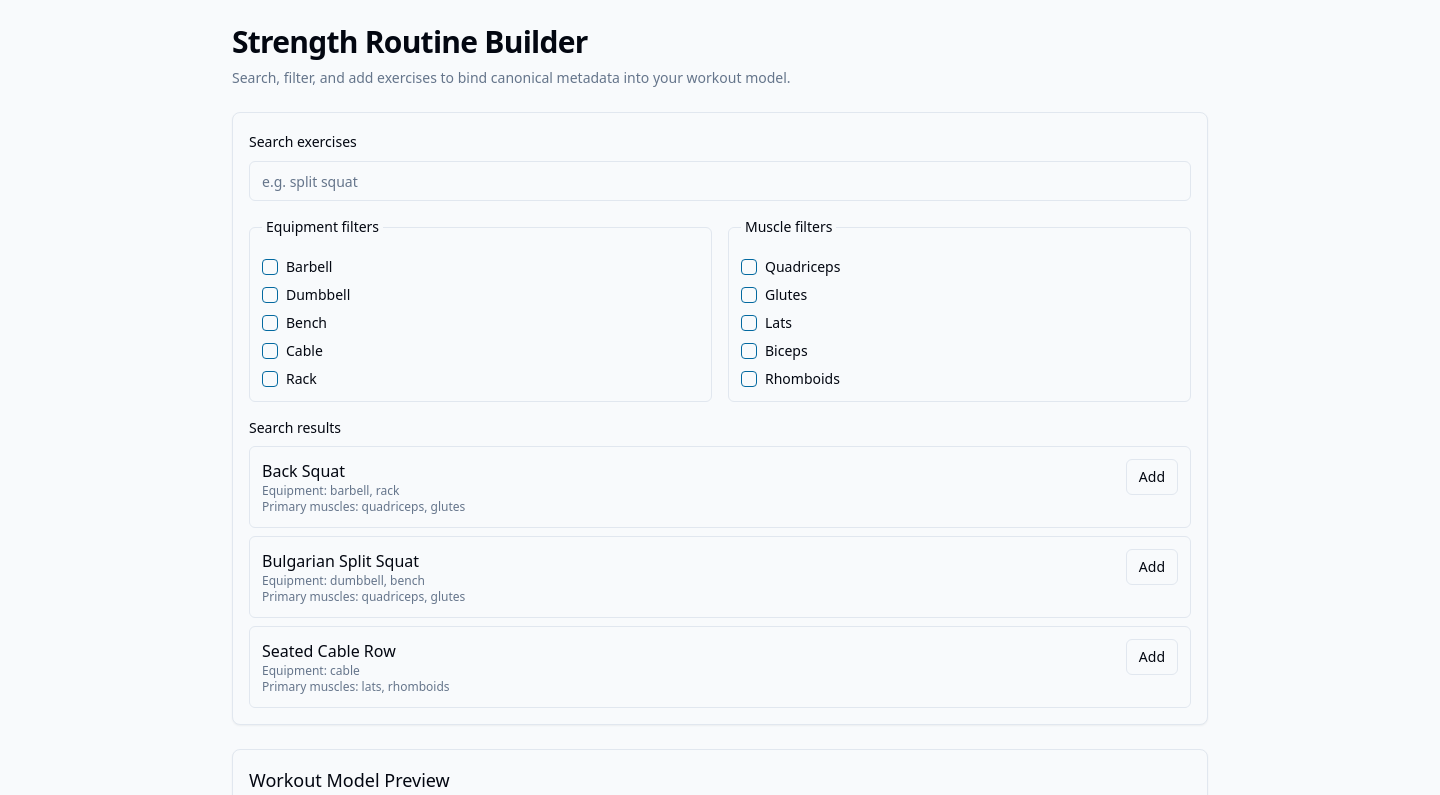
Test: StrengthRoutineBuilder muscle maps › renders exercise, routine, and microcycle muscle maps that update as composition changes
Type "back squat" into the field labelled "Search exercises" at (720, 181), box [249, 161, 1191, 201]
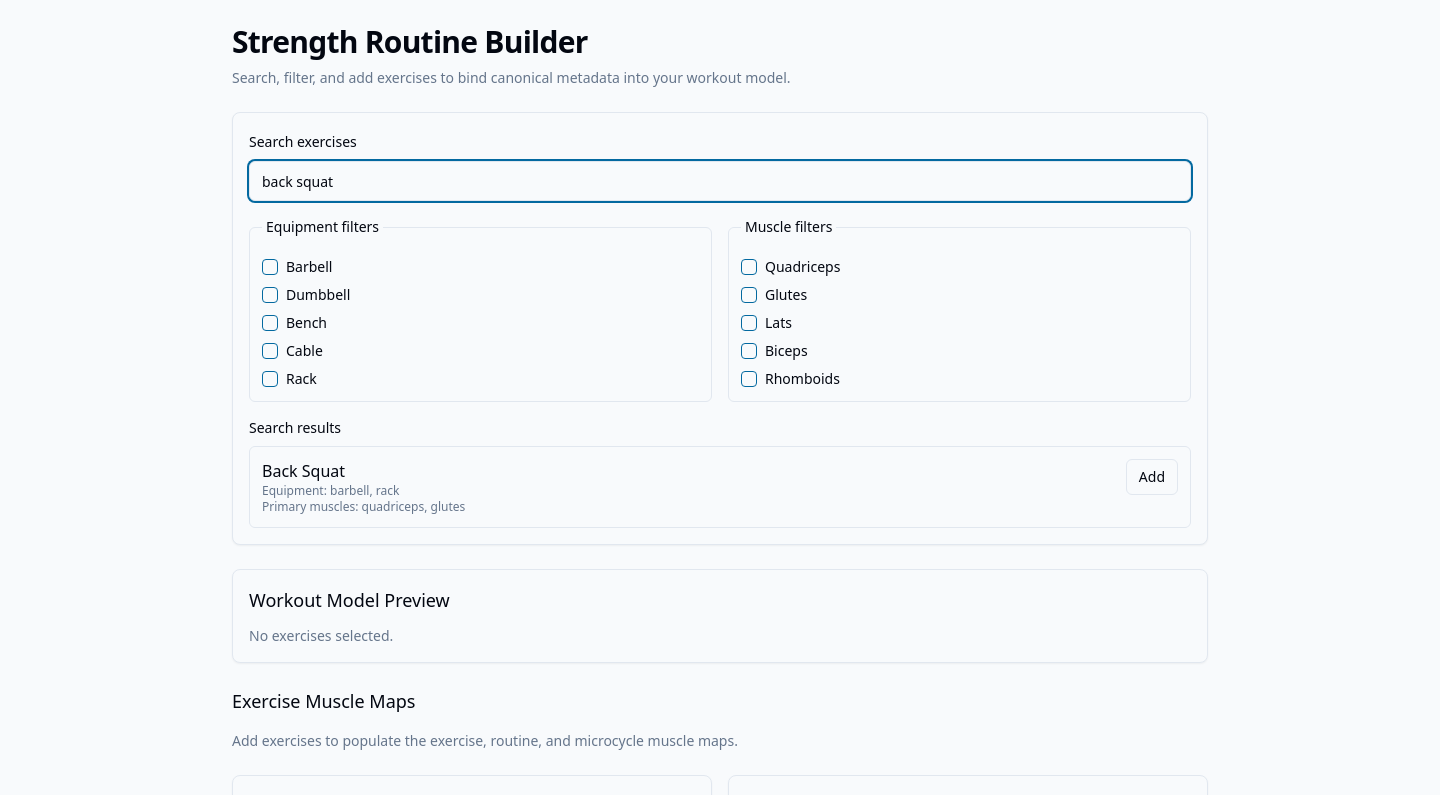
Click the option "Back Squat" at (304, 471), box [249, 446, 1191, 528]
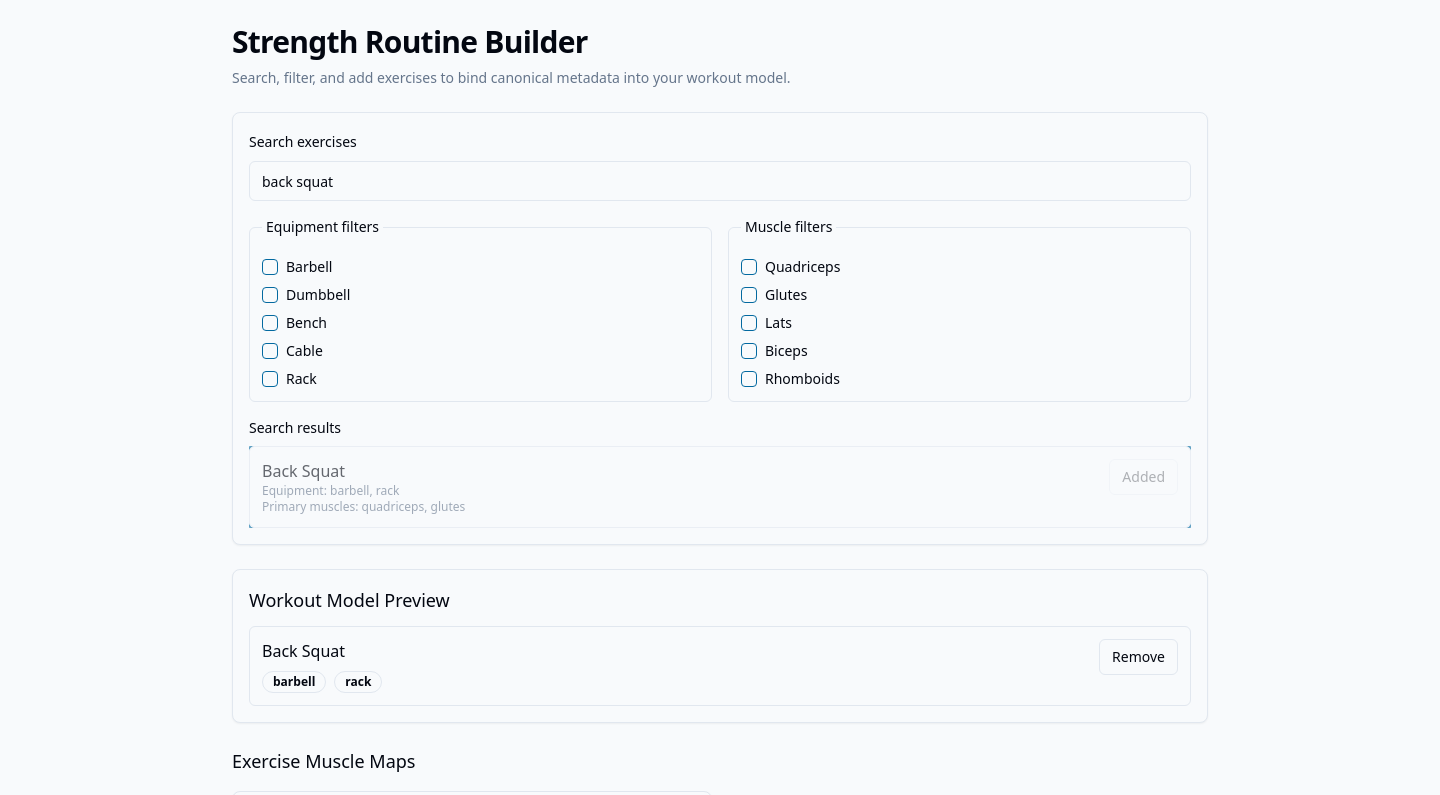
Replace the text in the field labelled "Search exercises" with "seated cable row" at (720, 181), box [249, 161, 1191, 201]
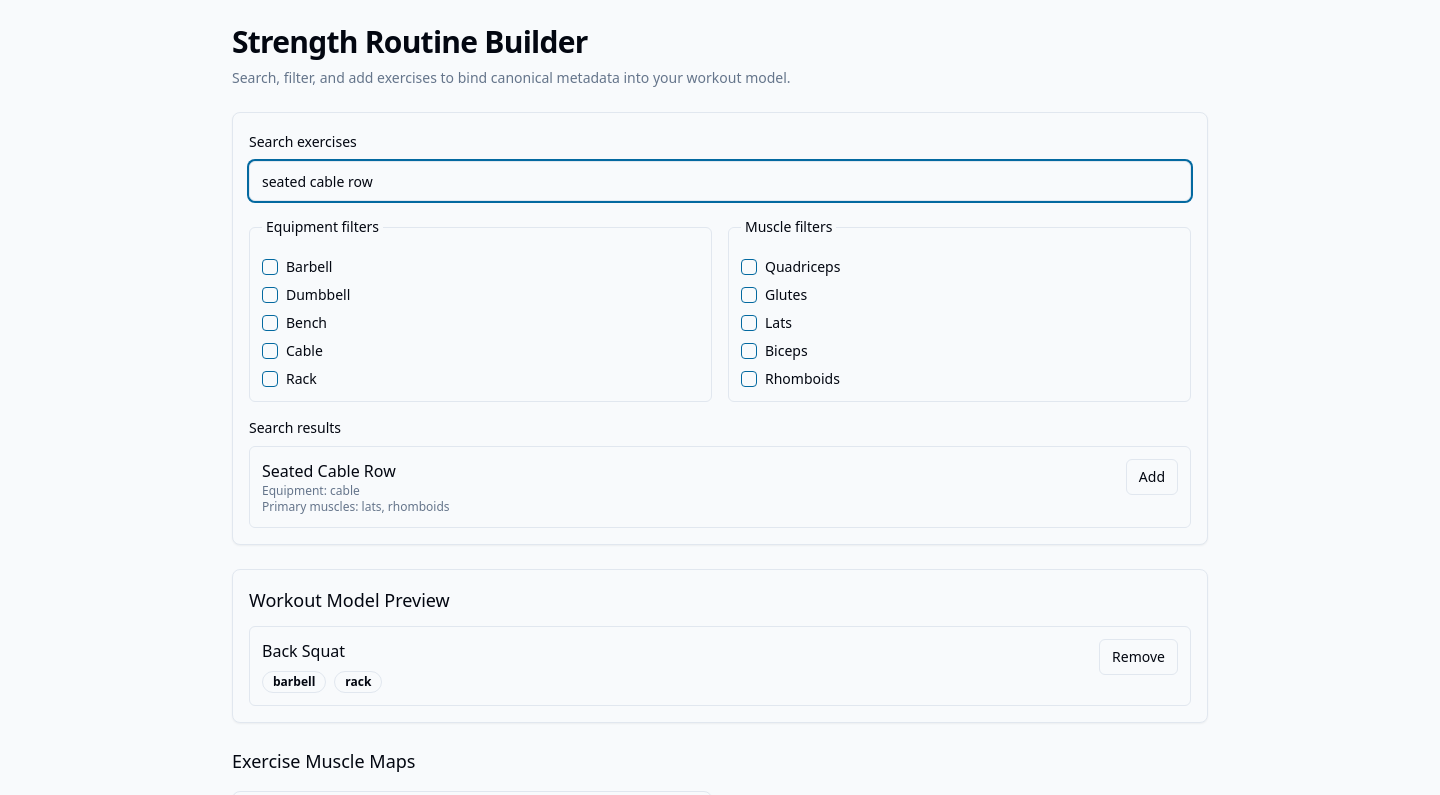
Click the option "Seated Cable Row" at (329, 471), box [249, 446, 1191, 528]
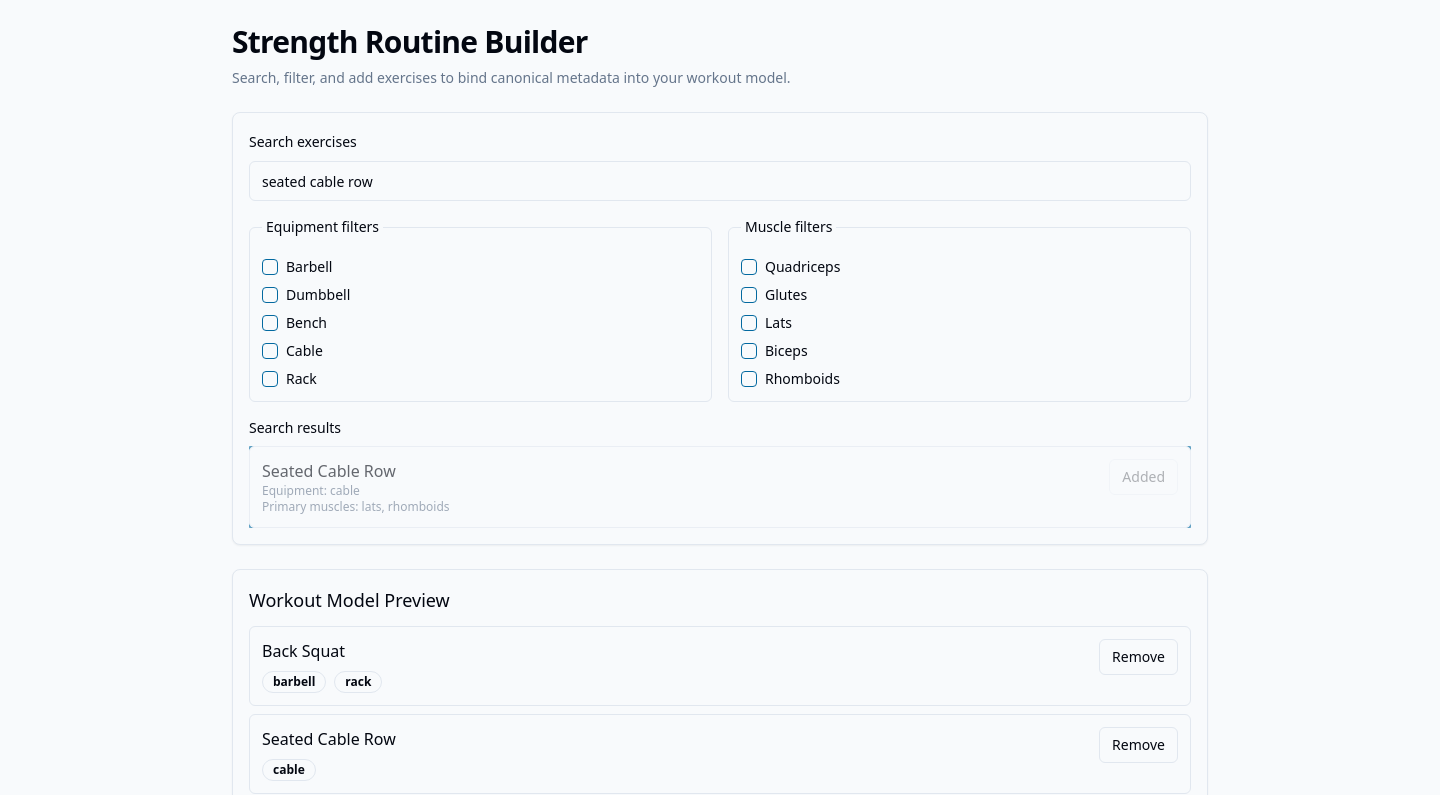
Click the button with aria-label "Remove Seated Cable Row" at (1139, 745), box [1099, 727, 1178, 763]
(page scrolled)
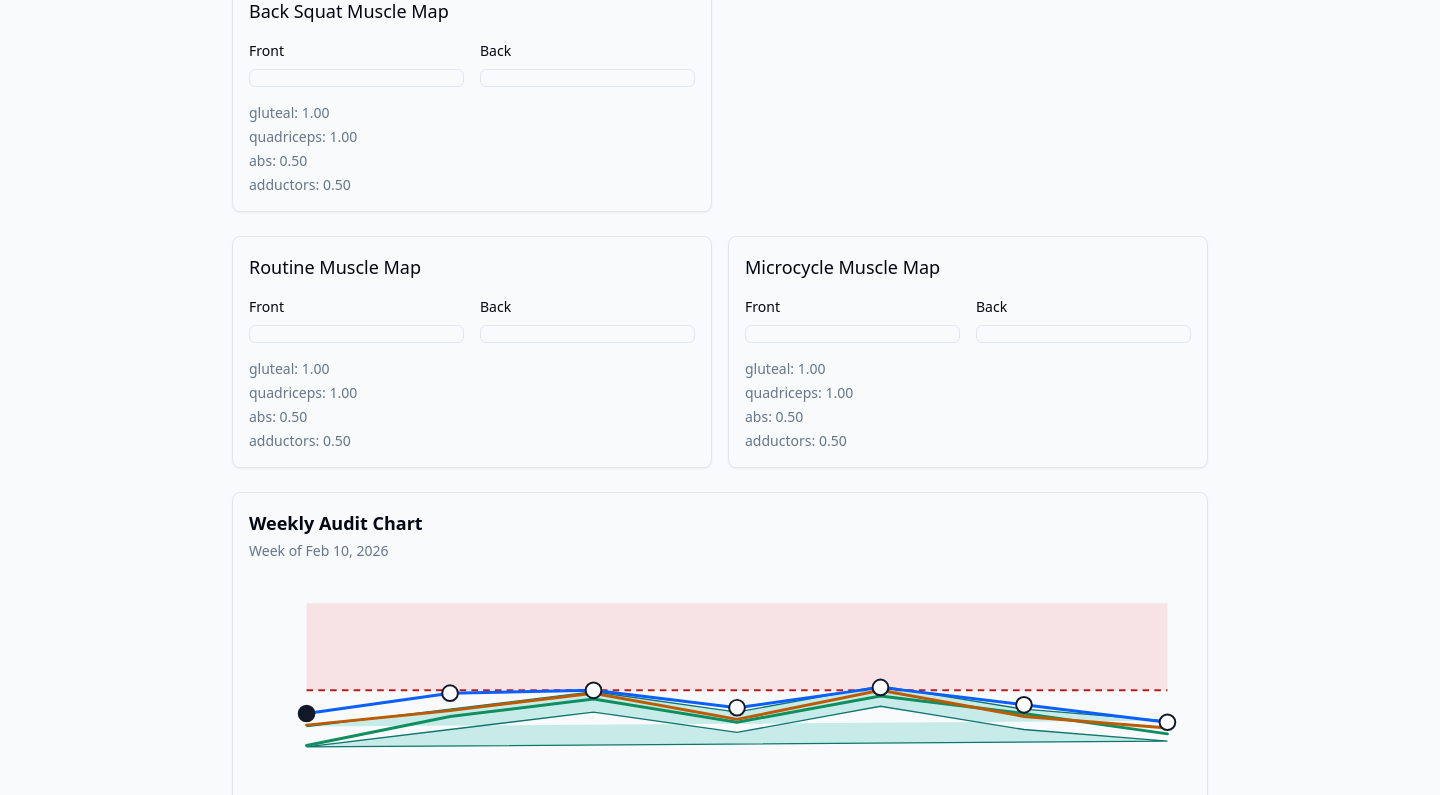
Now the list named "Routine Muscle Map contributions" no longer shows "upper-back", box [249, 359, 357, 450]
